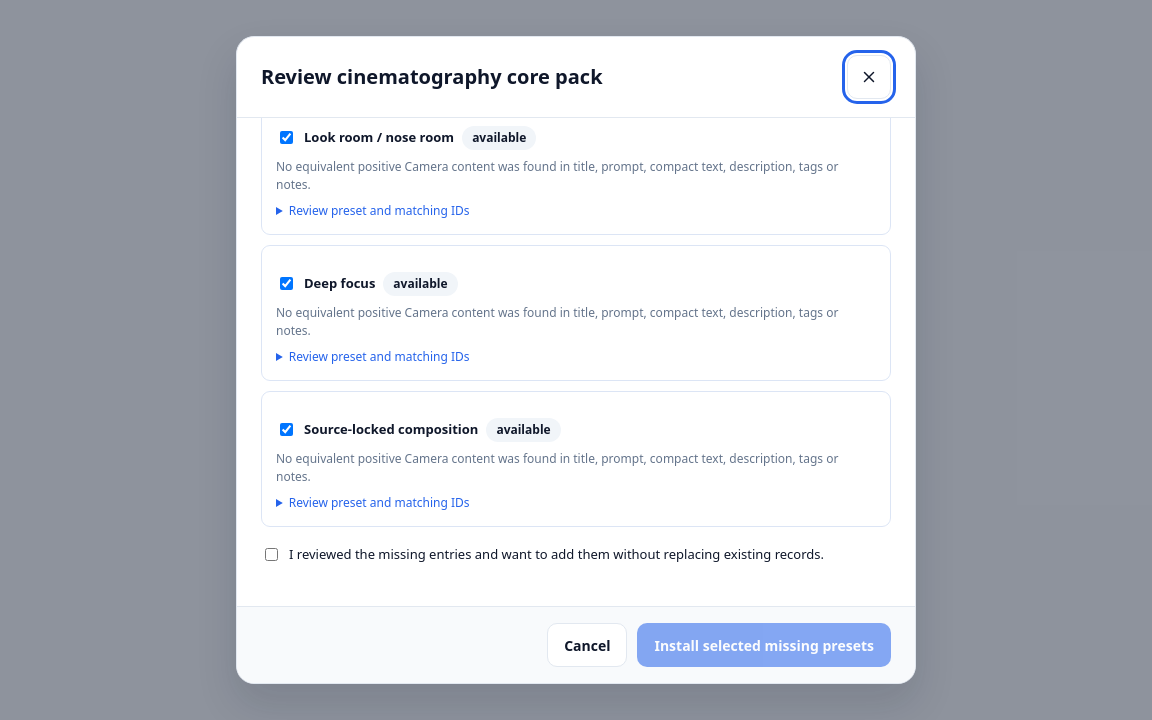
Test: retains the preview and an actionable error after an installation failure
(page scrolled)
Click the checkbox named "I reviewed the missing entries and want to add them without replacing existing records." at (272, 554), box [265, 548, 278, 561]
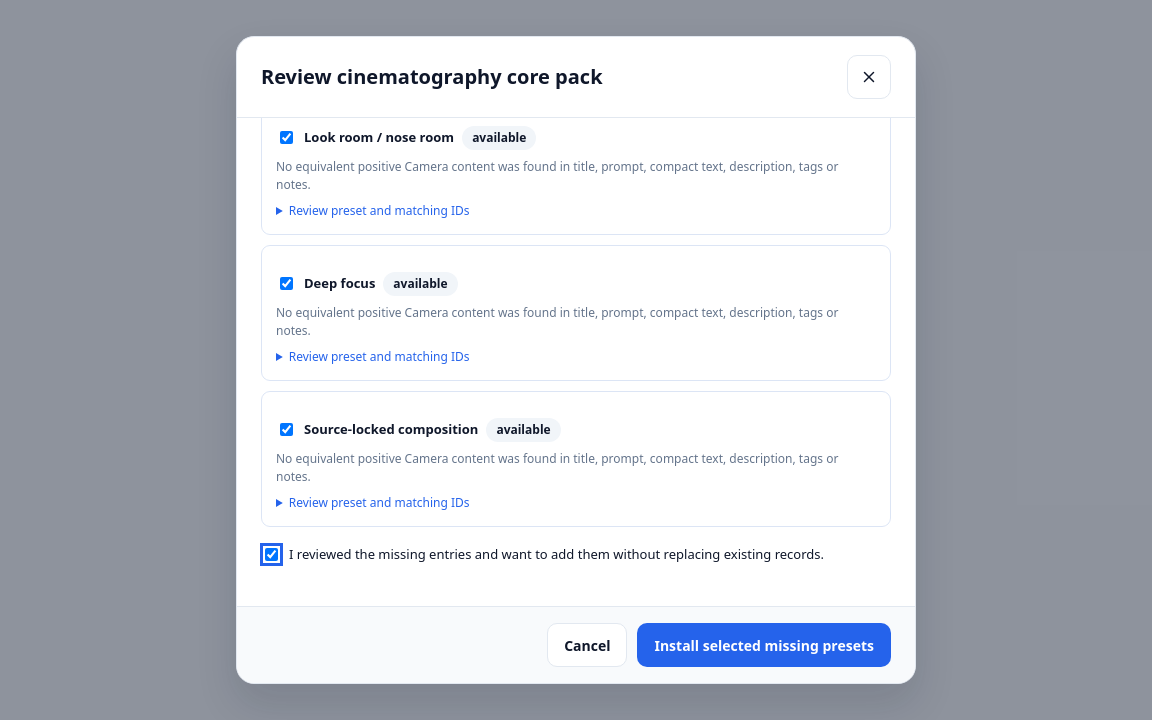
Click the button "Install selected missing presets" at (764, 645), box [638, 623, 891, 667]
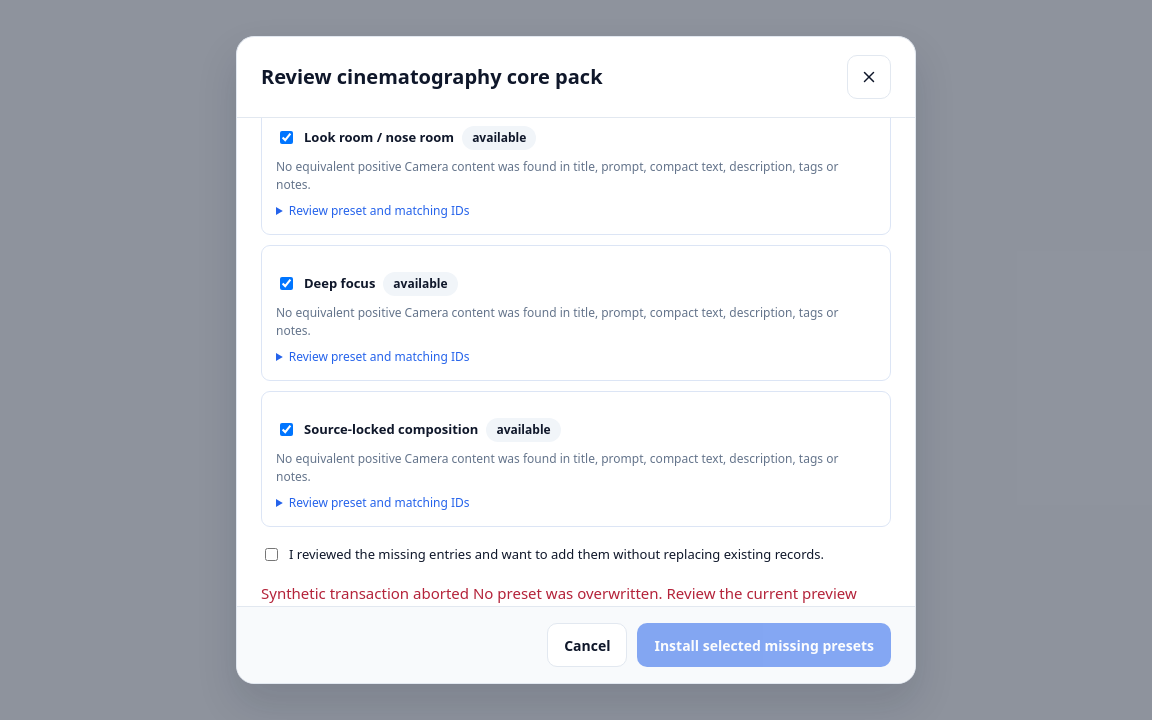
Expected: the dialog is shown, [236, 36, 916, 684]
Expected: the message shows "Synthetic transaction aborted", [261, 583, 469, 603]
